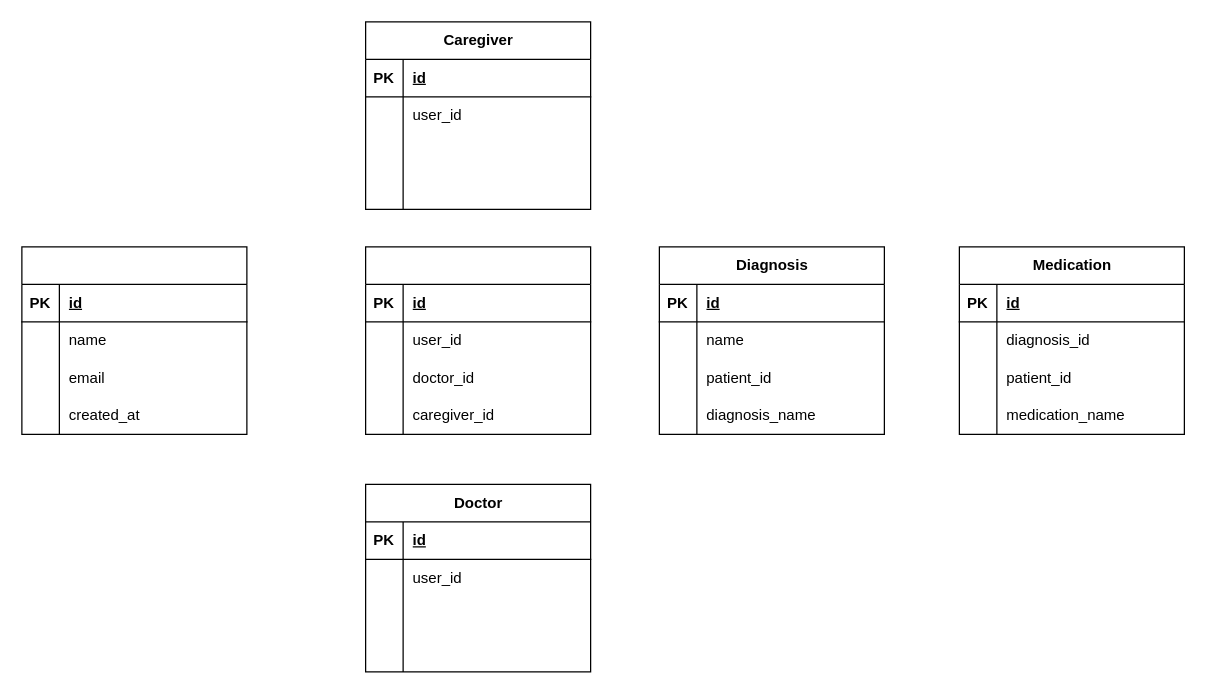
Some shapes in this 1206 by 694 pixel diagram are drawn without their labels. Each missing label, with the box of its shape:
Patient: (364, 246, 591, 434)
User: (21, 246, 247, 434)
